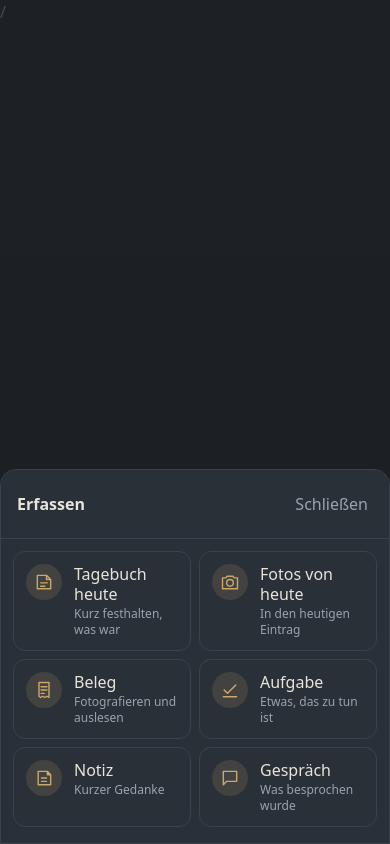
Test: capture sheet › goes without a room when none is open
Click the button "Notiz Kurzer Gedanke".
click(102, 787)  # box [13,747,191,827]
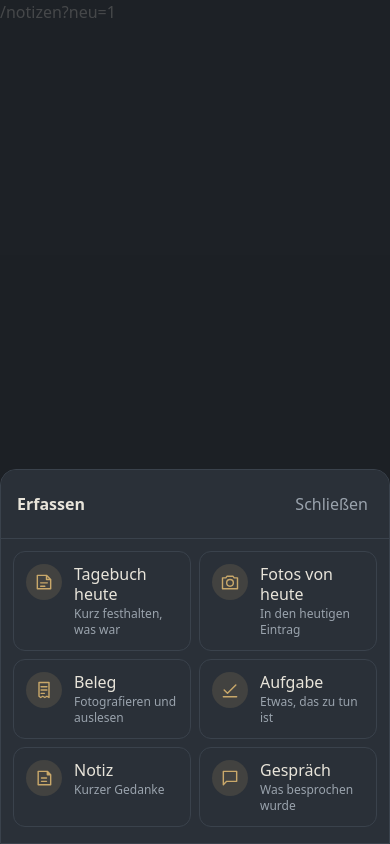
Expected: the text "/notizen?neu=1" is shown, [0,1,116,23]
